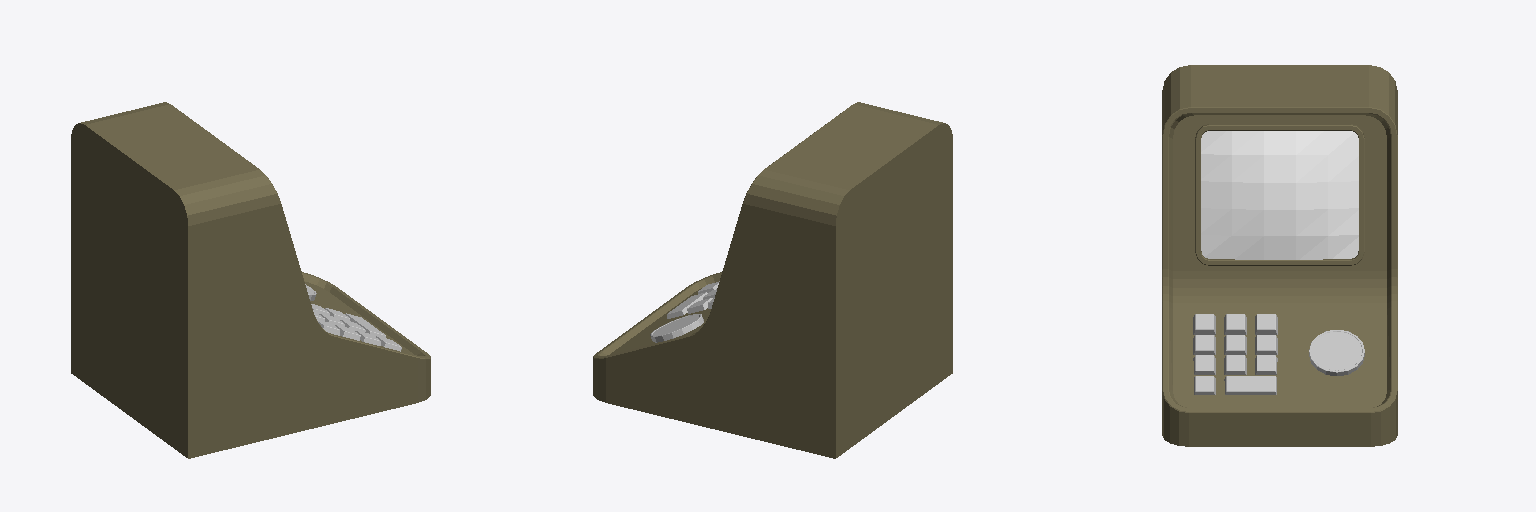
Rendered from computer.obj.
The picture shows the model from 3 angles: view 1: azimuth 30°, elevation 25°; view 2: azimuth 150°, elevation 25°; view 3: azimuth 270°, elevation 25°; orthographic projection.
Parts seen in each view (by area): view 1: Cube.026, Cylinder.003; view 2: Cube.026, Cylinder.003; view 3: Cube.026, Cube.031, Cylinder.003, Cube.029.
Part boxes in pixels (left/top/right/bottom): Cube.026: left=71, top=102, right=430, bottom=458; Cylinder.003: left=305, top=284, right=401, bottom=351; Cube.026: left=593, top=102, right=952, bottom=458; Cylinder.003: left=650, top=281, right=719, bottom=342; Cube.026: left=1162, top=65, right=1397, bottom=446; Cube.031: left=1201, top=131, right=1358, bottom=259; Cylinder.003: left=1193, top=314, right=1364, bottom=394; Cube.029: left=1195, top=124, right=1364, bottom=265.
Size of the model in its own units: 4 by 3.9 by 3.22.